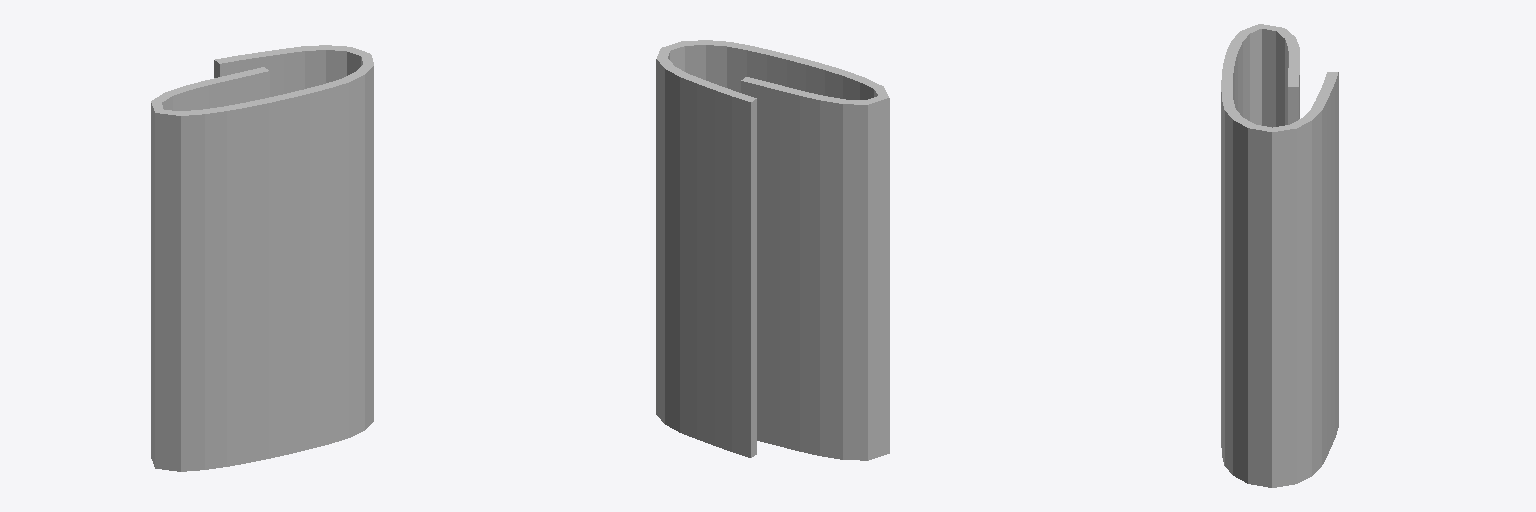
Rendered from Scroll0.obj.
3 renders of one model, left to right at view 1: azimuth 30°, elevation 25°; view 2: azimuth 150°, elevation 25°; view 3: azimuth 270°, elevation 25°, orthographic.
Parts seen in each view (by area): view 1: Cube_Cube.001; view 2: Cube_Cube.001; view 3: Cube_Cube.001.
Part boxes in pixels (bbox=[...]): Cube_Cube.001: bbox=[151, 45, 373, 471]; Cube_Cube.001: bbox=[656, 40, 889, 460]; Cube_Cube.001: bbox=[1221, 24, 1338, 487].
Size of the model in its own units: 3.02 by 4.62 by 1.38.